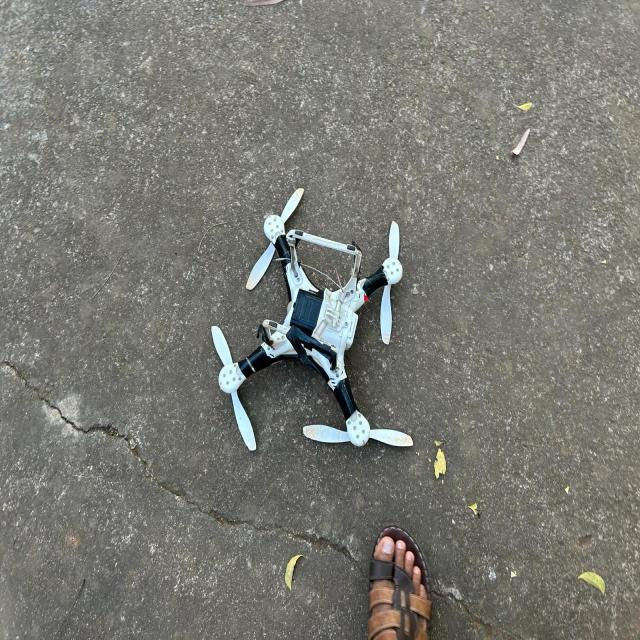drone: (114, 148, 509, 499)
